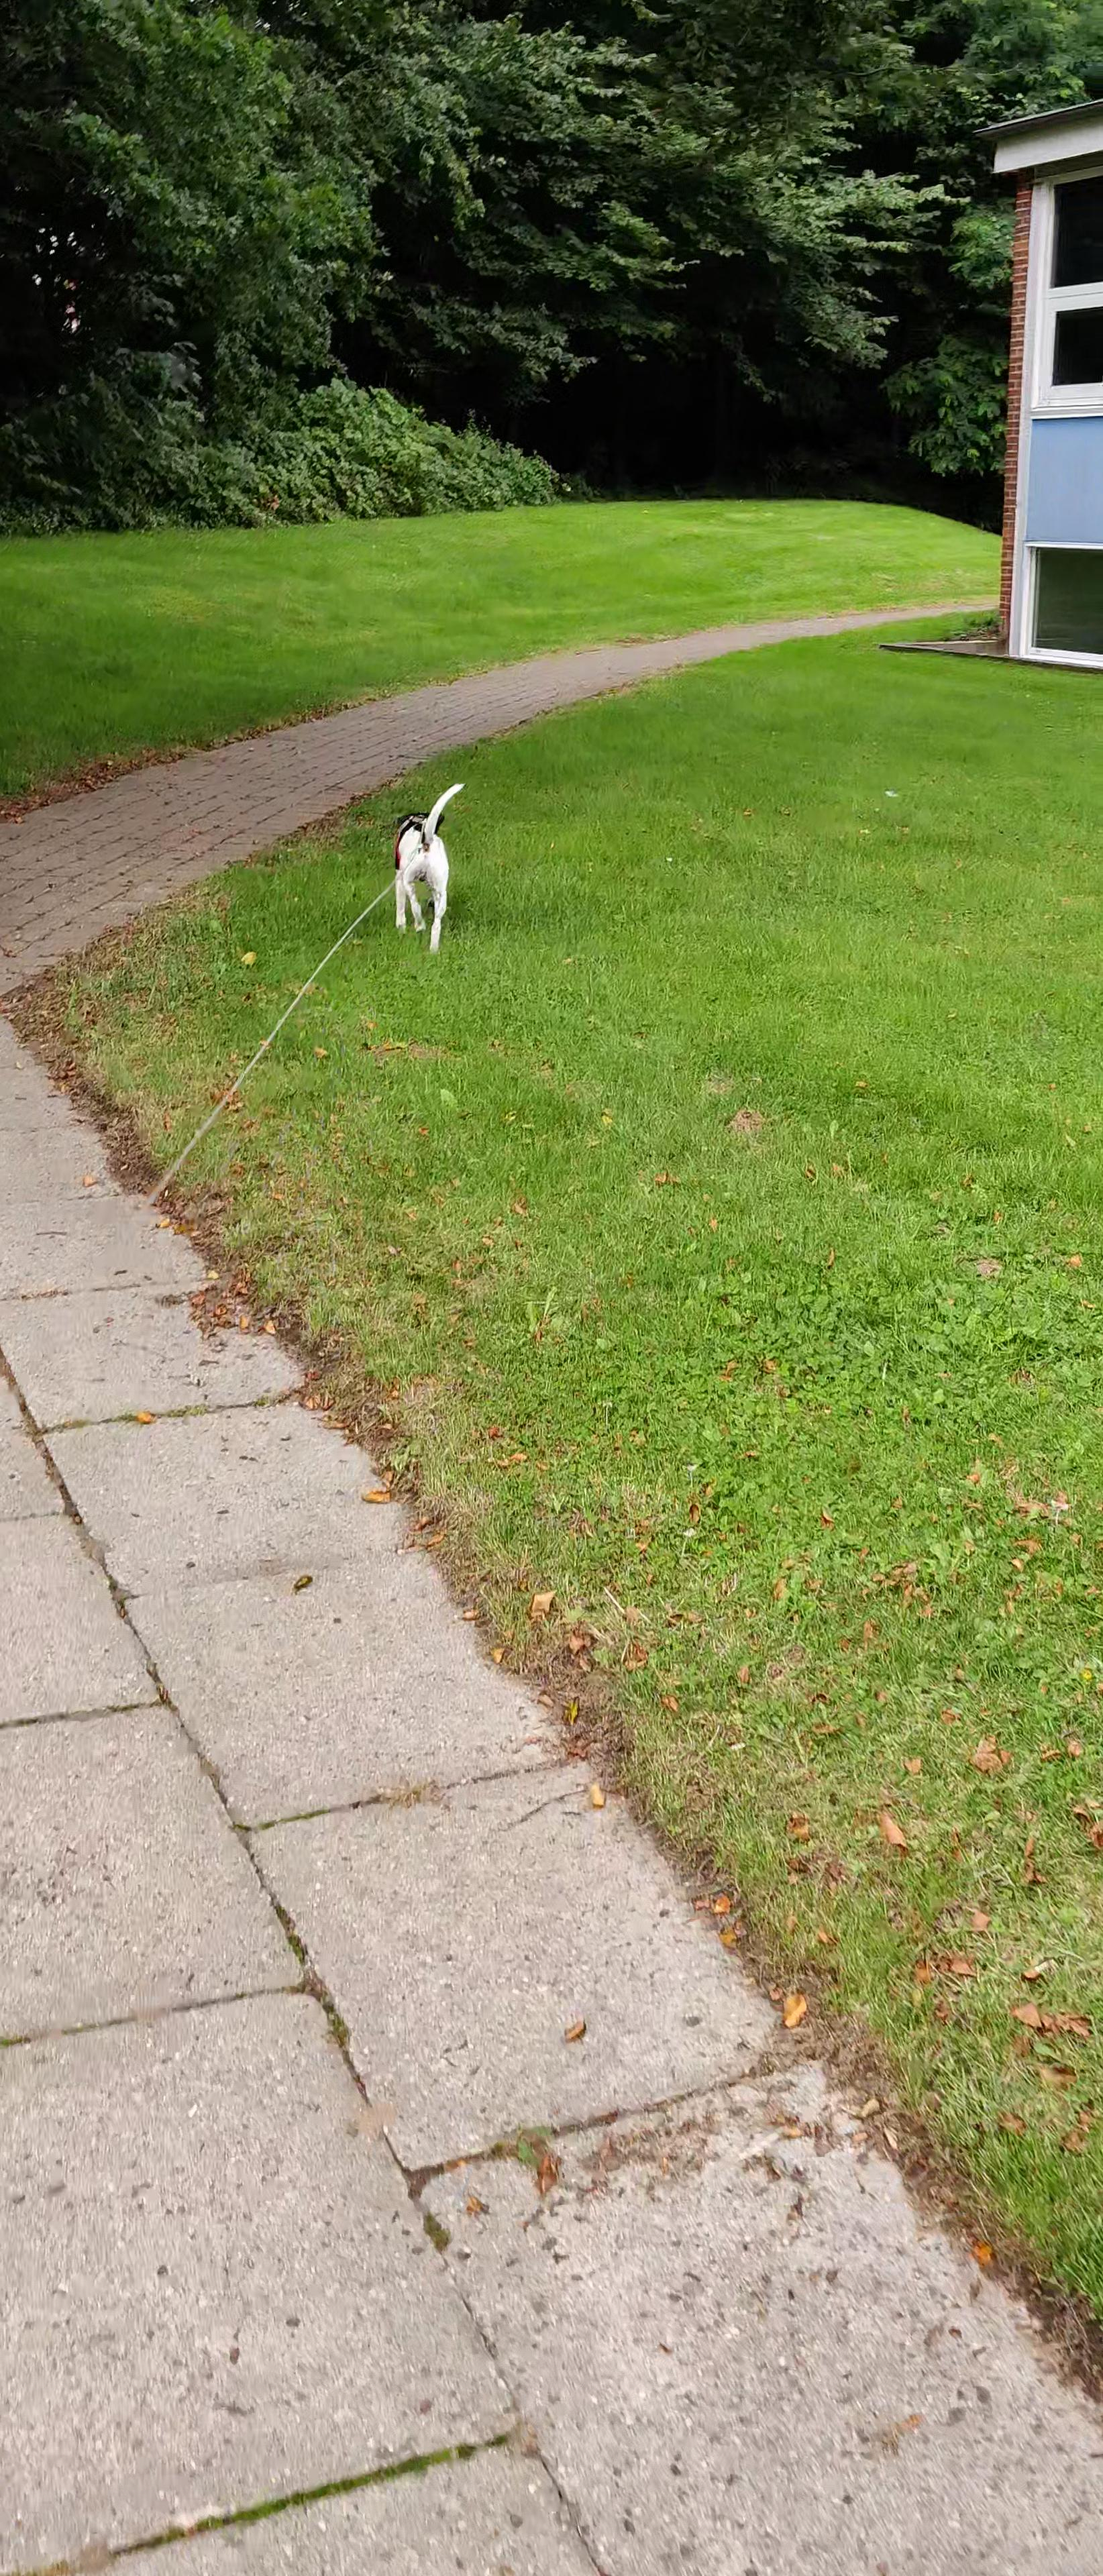Dog: (388, 780, 470, 956)
